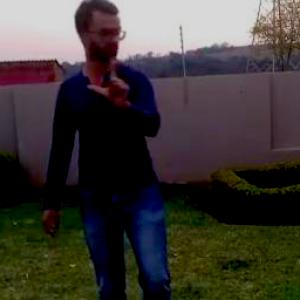land_hand: (87, 50, 136, 112)
